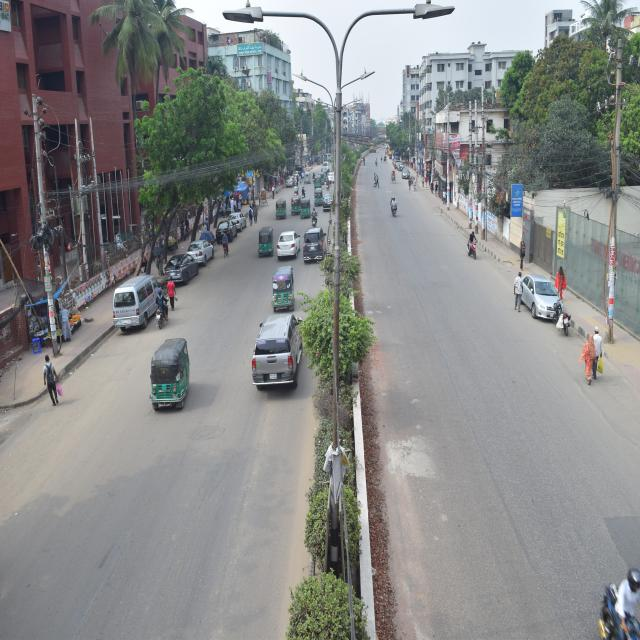car: (518, 269, 565, 322), (160, 238, 204, 293), (188, 231, 222, 271), (276, 224, 299, 266), (210, 215, 240, 247), (231, 210, 251, 236), (321, 186, 334, 216)
microbus: (246, 304, 311, 400), (104, 262, 163, 332), (301, 221, 327, 267)
motorbike: (147, 280, 173, 328), (549, 299, 579, 336), (459, 230, 483, 270), (309, 207, 322, 232), (388, 199, 400, 224), (298, 180, 313, 198), (371, 156, 379, 173)
